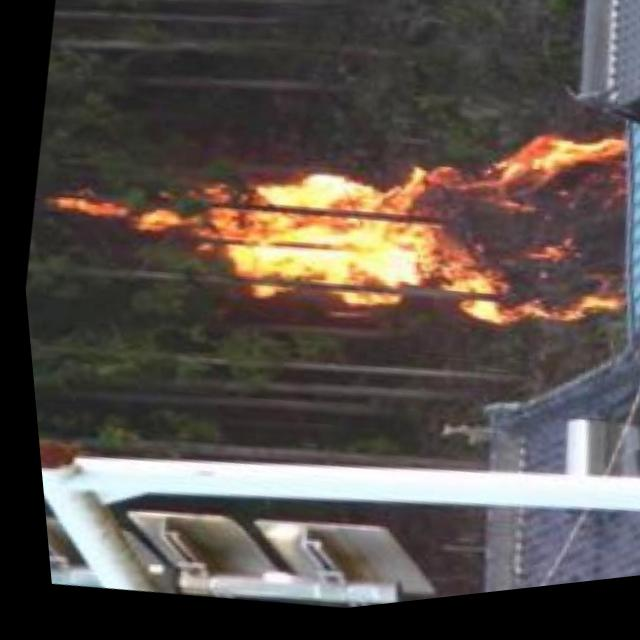Fire: (29, 46, 640, 401)
